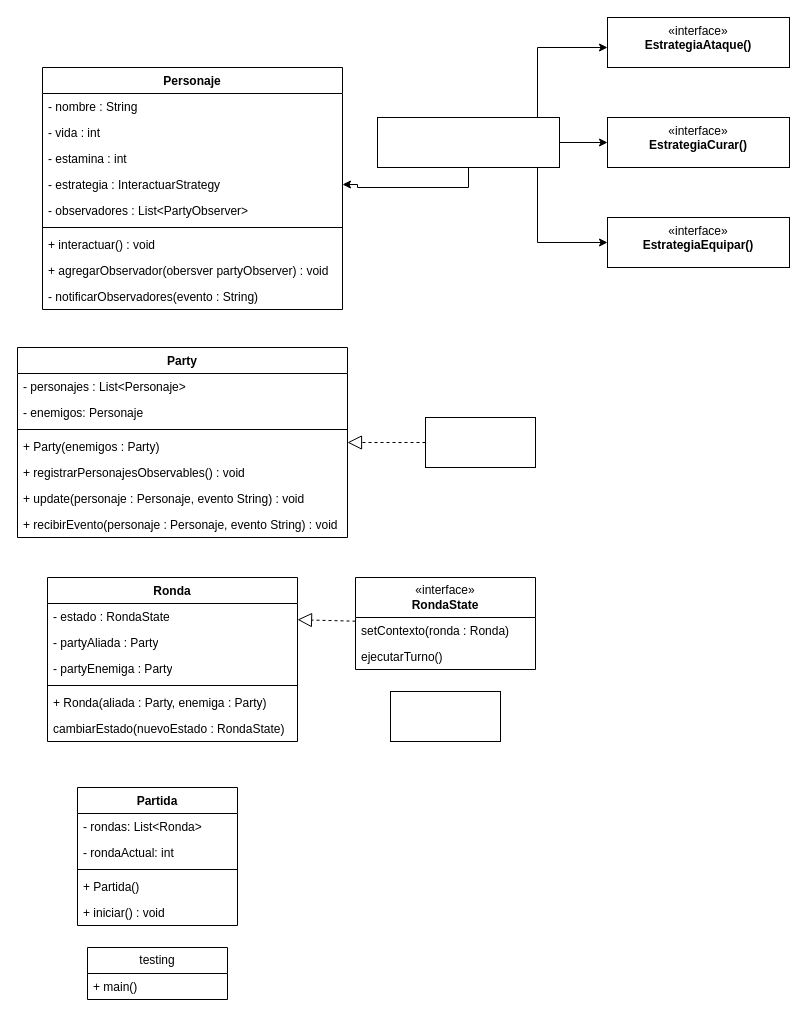
Some shapes in this 807 by 1020 pixel diagram are drawn without their labels. Each missing label, with the centre of its shape:
Enum tipoRonda: the point at 445,716
«interface» interaccionTemplate interactuar(): the point at 468,142
«interface» PartyObserver update(): the point at 480,442
